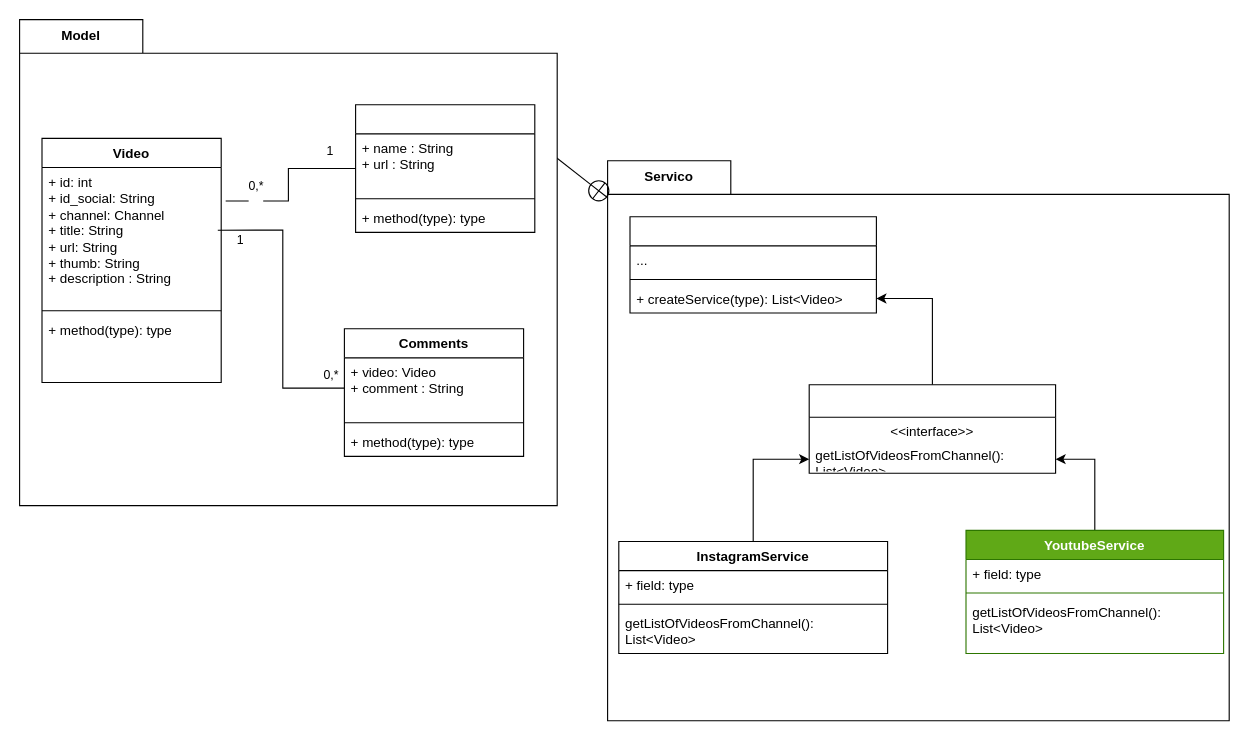
Image size: 1249x740. Some labels were removed from this diagram. Here are the shapes that lost their labels. From the top down, the box of each, then its label:
(354, 104, 535, 232): Channel
(629, 216, 876, 313): SocialServiceFactory
(808, 384, 1056, 473): SocialServiceInterface
